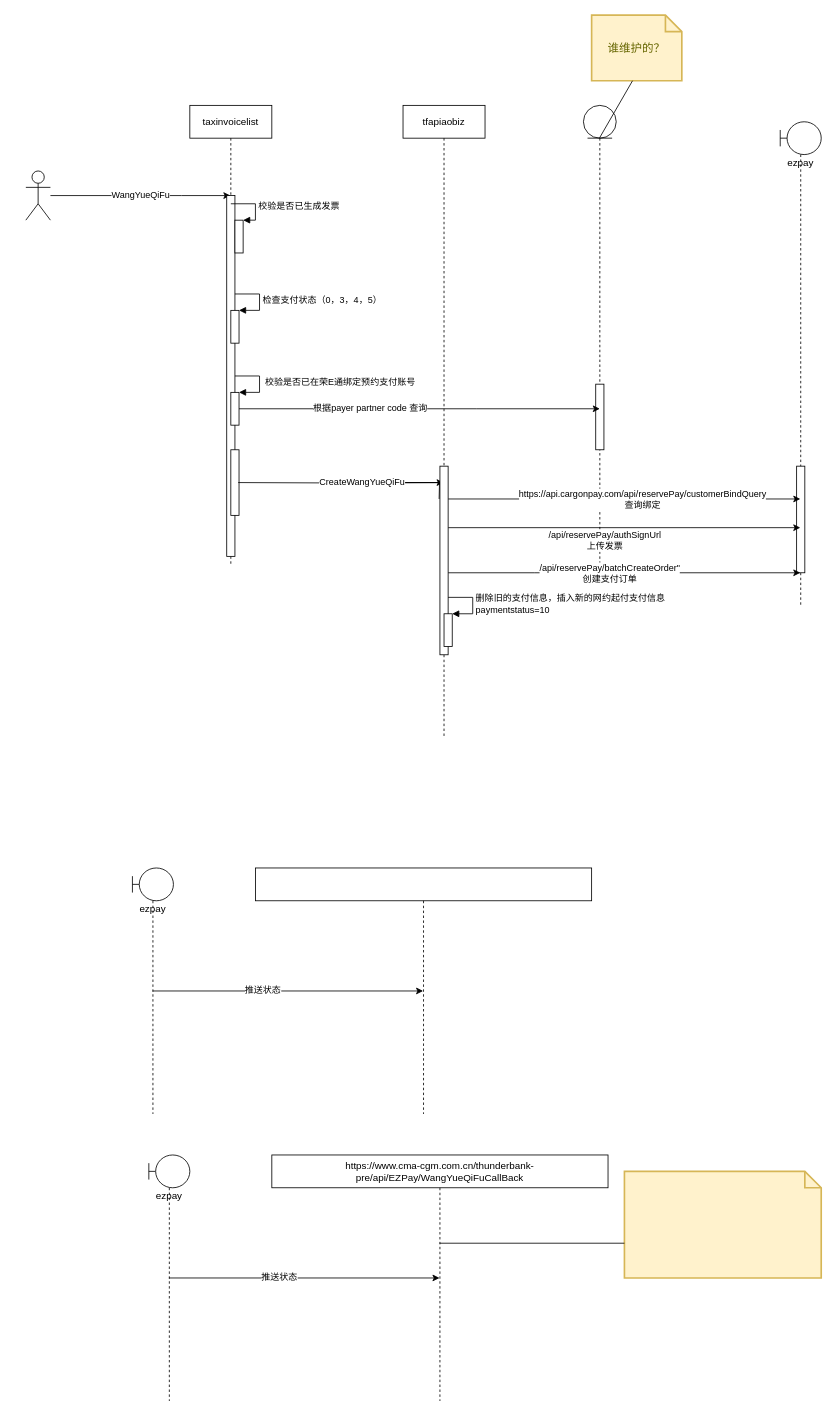
Some shapes in this 836 by 1415 pixel diagram are drawn without their labels. Each missing label, with the box of its shape:
Biz_TEZPayAutoSetup: (583, 105, 616, 565)
empployee: (25, 170, 50, 220)
https://www.cma-cgm.com.cn/thunderbank-pre/api/EZPay/WYQFPaymentStatus: (255, 867, 592, 1114)
确认发票回调 /// 发 票 确 认 状 态 /// 1 已确认 /// 2 取消确认 /// 3 有争议 /// 4 取消争议: (623, 1170, 822, 1278)
